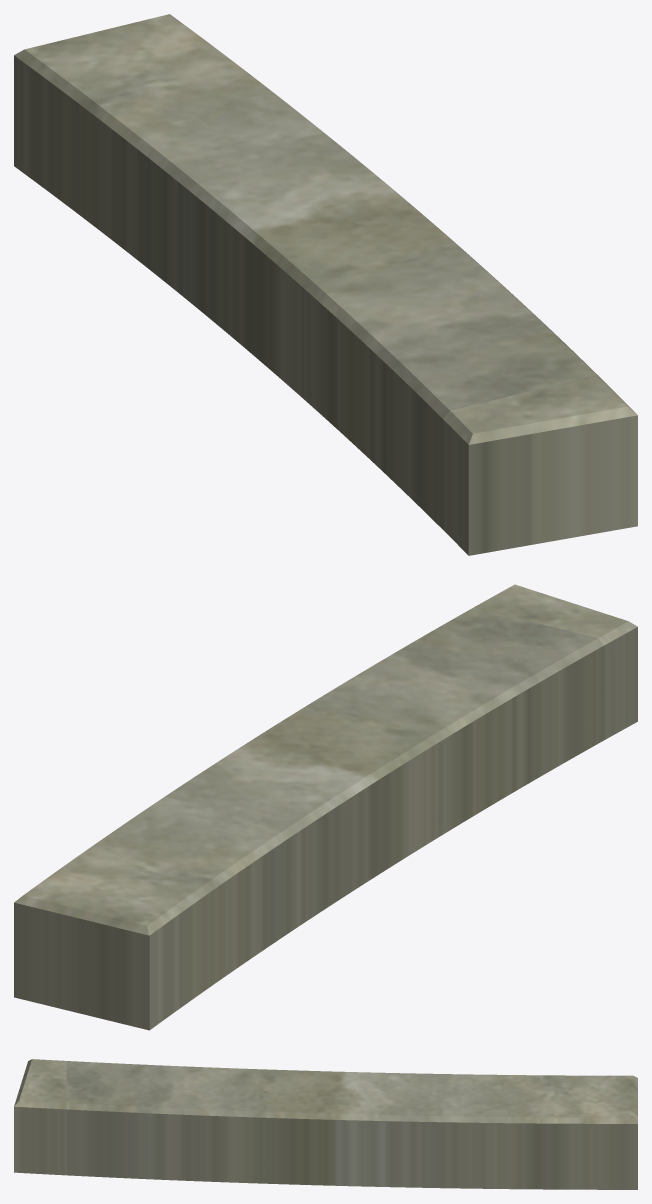
The model's file is f03-t-stone-pool-trim-1m.glb.
3 views of the same model, one above another, from view 1: azimuth 30°, elevation 25°; view 2: azimuth 150°, elevation 25°; view 3: azimuth 270°, elevation 25° (orthographic). The views are drawn at different scales.
Parts seen in each view (by area): view 1: f03-t-stone-pool-trim-1m; view 2: f03-t-stone-pool-trim-1m; view 3: f03-t-stone-pool-trim-1m.
Boxes of the visible parts, x1,y1,x2,y2 form: f03-t-stone-pool-trim-1m: (14,14,637,555); f03-t-stone-pool-trim-1m: (14,584,637,1030); f03-t-stone-pool-trim-1m: (14,1059,637,1189).
Size of the model in its own units: 0.2598 by 0.135 by 1.09.
Materials: 1 (1 with a texture image).
